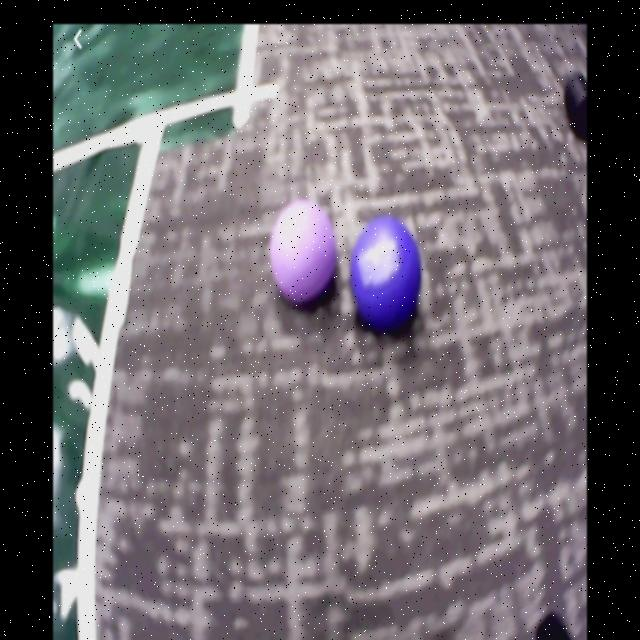ball: (352, 221, 423, 334), (273, 199, 340, 304)
